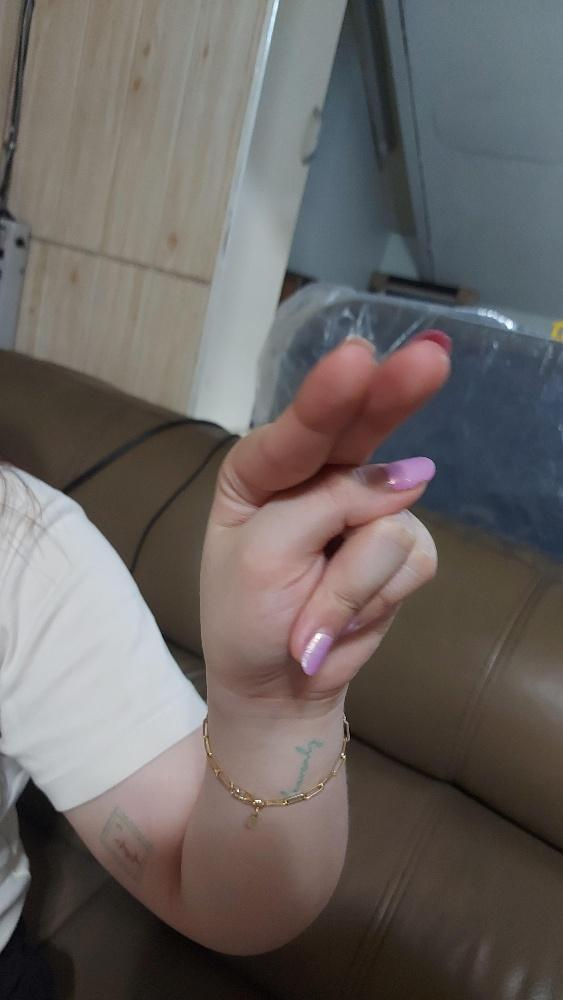n: (198, 327, 451, 701)
